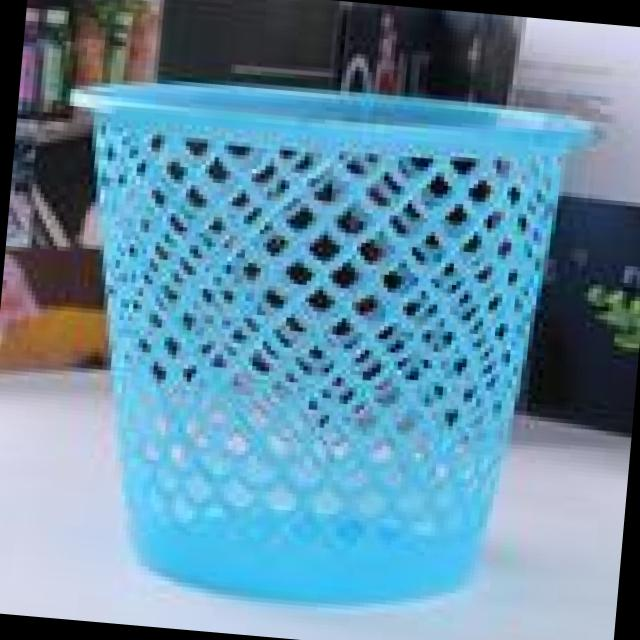dustbin: (22, 60, 610, 629)
